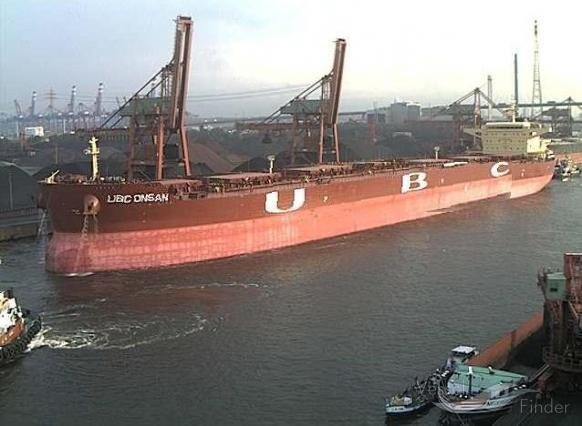OCR: (252, 162, 514, 216), (102, 188, 176, 206)
